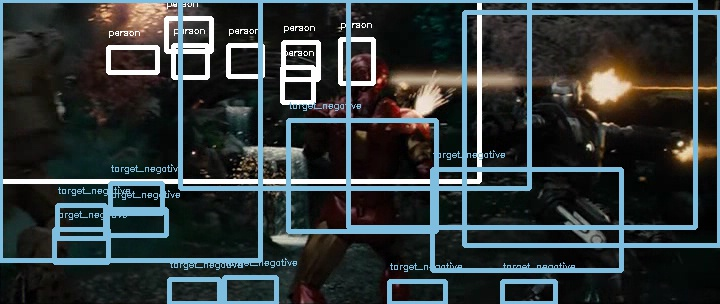person: (340, 46, 388, 93), (339, 46, 387, 93), (341, 46, 389, 93), (340, 45, 388, 92), (340, 47, 388, 94)
target_negative: (191, 20, 517, 84), (528, 85, 655, 176), (295, 225, 427, 285), (646, 59, 685, 231), (279, 242, 305, 257), (585, 254, 615, 259)
